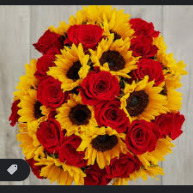RedRose: (81, 72, 123, 104), (57, 133, 91, 168), (36, 114, 63, 156), (151, 107, 185, 140), (97, 98, 130, 132), (128, 119, 159, 154), (65, 23, 102, 50), (37, 77, 67, 109), (133, 55, 165, 85), (107, 154, 139, 180), (82, 160, 112, 185), (129, 14, 160, 38), (36, 31, 64, 54), (129, 36, 159, 57), (35, 54, 60, 79)
